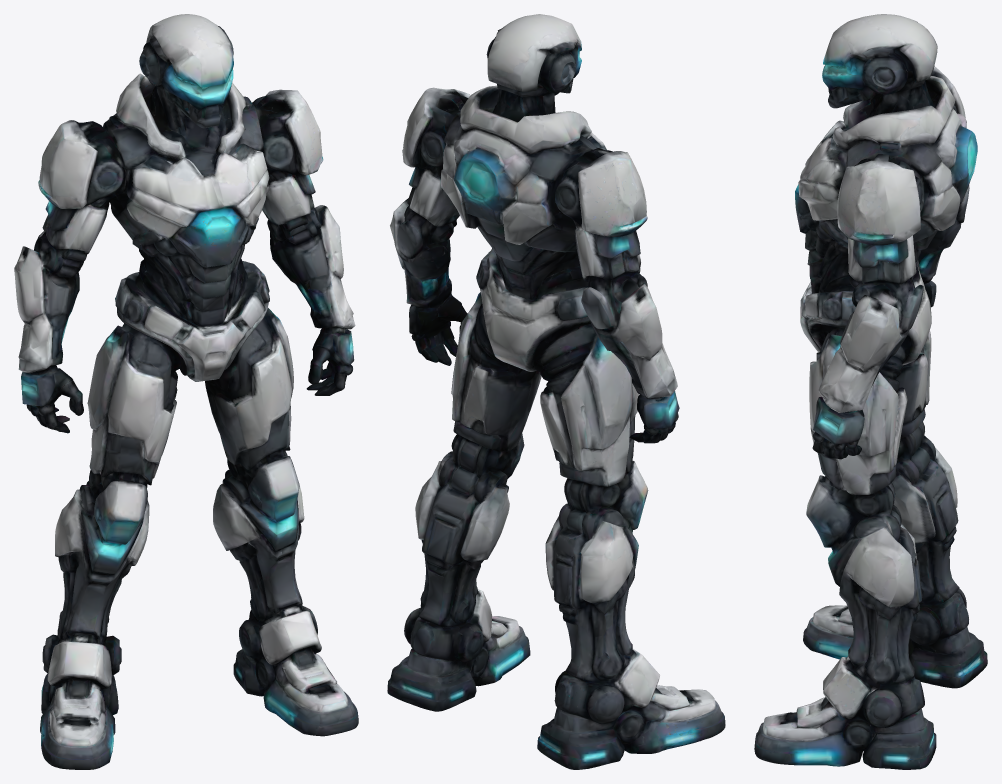
Rendered from background.glb.
3 views of the same model, side by side, from view 1: azimuth 30°, elevation 25°; view 2: azimuth 150°, elevation 25°; view 3: azimuth 270°, elevation 25° (orthographic).
Visible parts, largest first — view 1: node_0; view 2: node_0; view 3: node_0.
Boxes of the visible parts, <box> form: node_0: <box>14,14,358,769</box>; node_0: <box>387,14,725,769</box>; node_0: <box>754,14,987,769</box>.
Bounding box in the file's own units: 0.5069 × 1.09 × 0.3326.
1 material, 1 textured.
